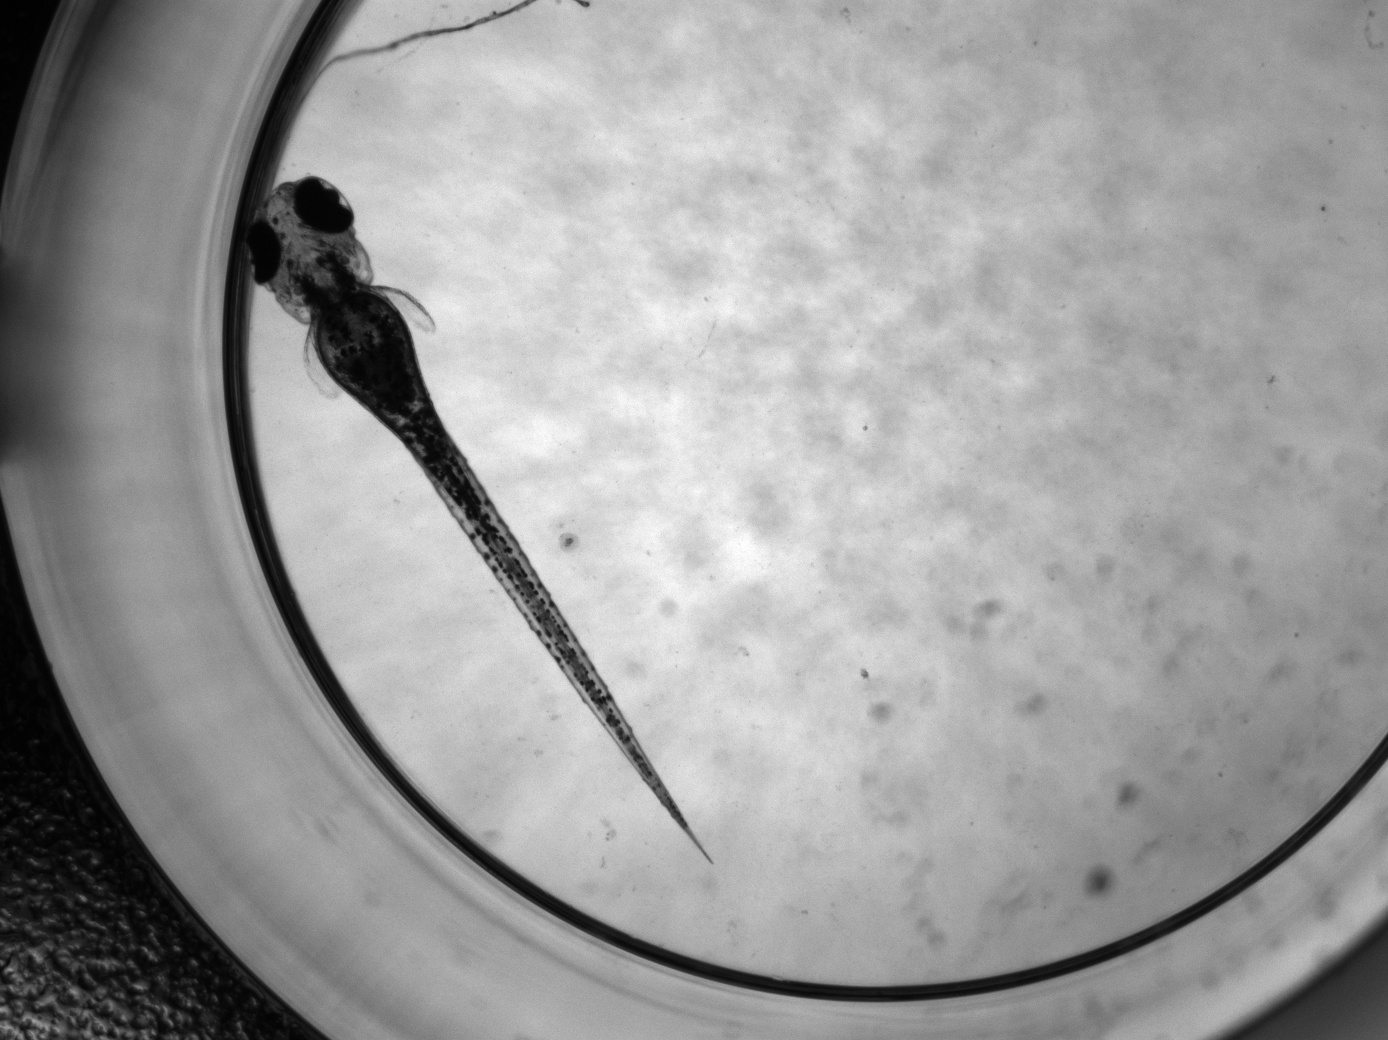debris: (306, 1, 593, 102)
embryo: (244, 174, 715, 868)
eye: (292, 176, 355, 235), (246, 218, 282, 286)
yolksac: (316, 294, 417, 407)
